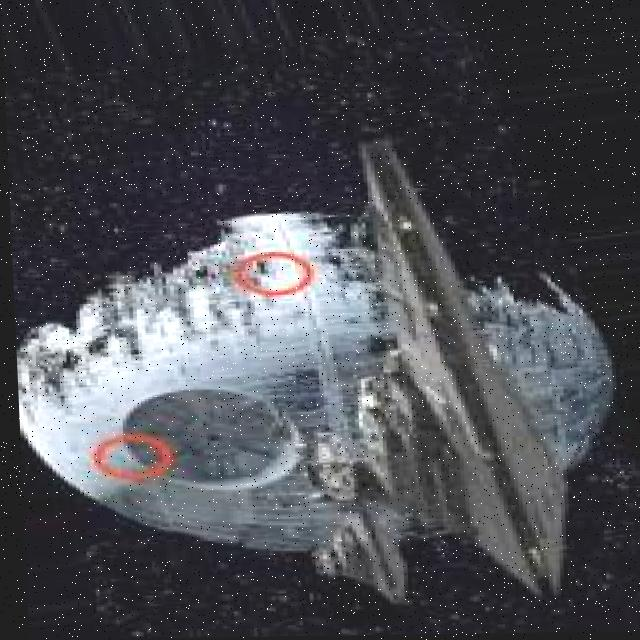deathstar: (9, 210, 615, 556)
